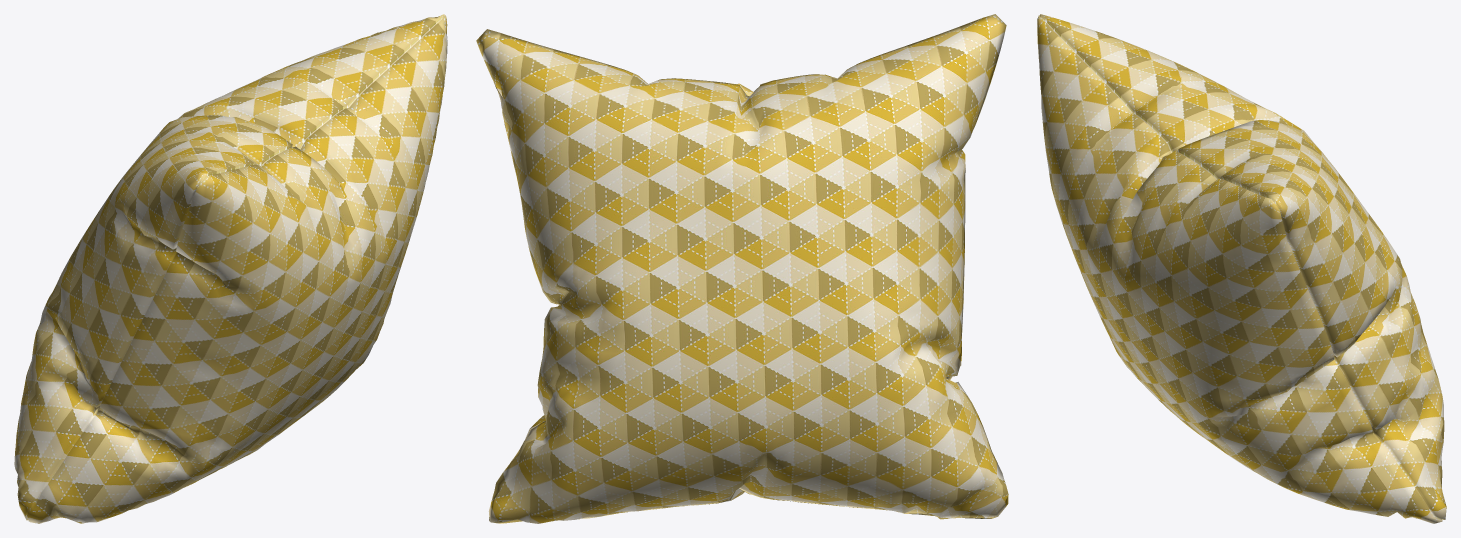
File: pillow.glb
3 views of the same model, side by side, from view 1: azimuth 30°, elevation 25°; view 2: azimuth 150°, elevation 25°; view 3: azimuth 270°, elevation 25° (orthographic). The views are drawn at different scales.
Parts seen in each view (by area): view 1: pillow 2; view 2: pillow 2; view 3: pillow 2.
Boxes of the visible parts, bbox=[...] form: pillow 2: bbox=[14, 14, 447, 523]; pillow 2: bbox=[476, 14, 1008, 523]; pillow 2: bbox=[1037, 14, 1446, 523].
Bounding box in the file's own units: 0.3959 × 0.3219 × 0.3113.
Materials: 1 (1 with a texture image).
